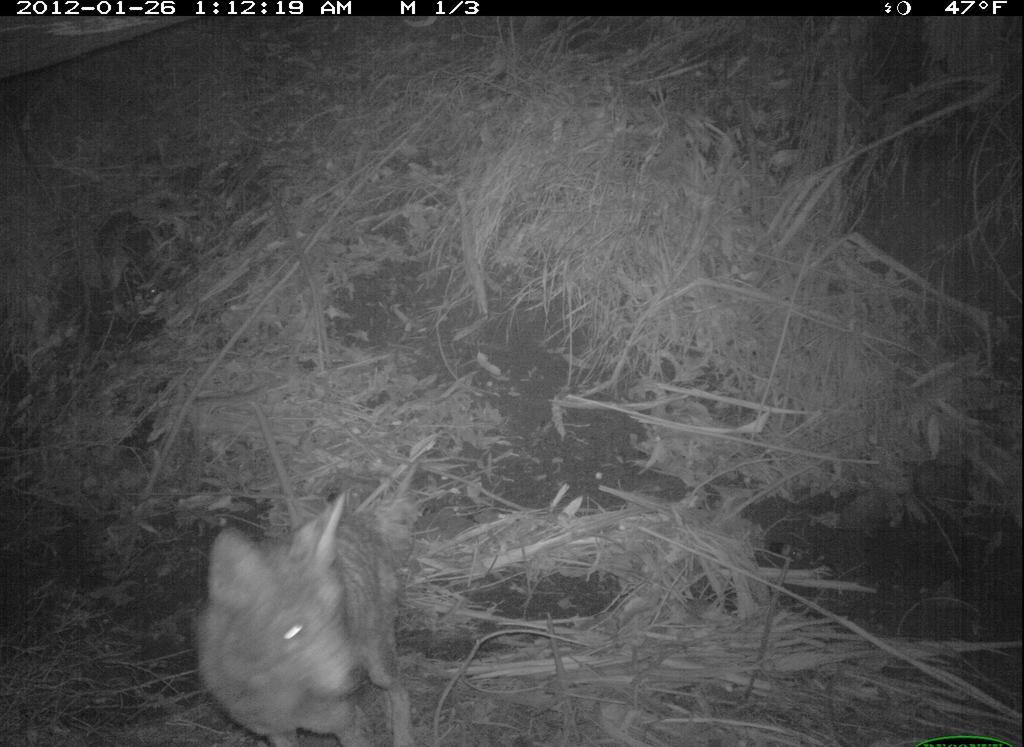coyote: (191, 484, 422, 747)
